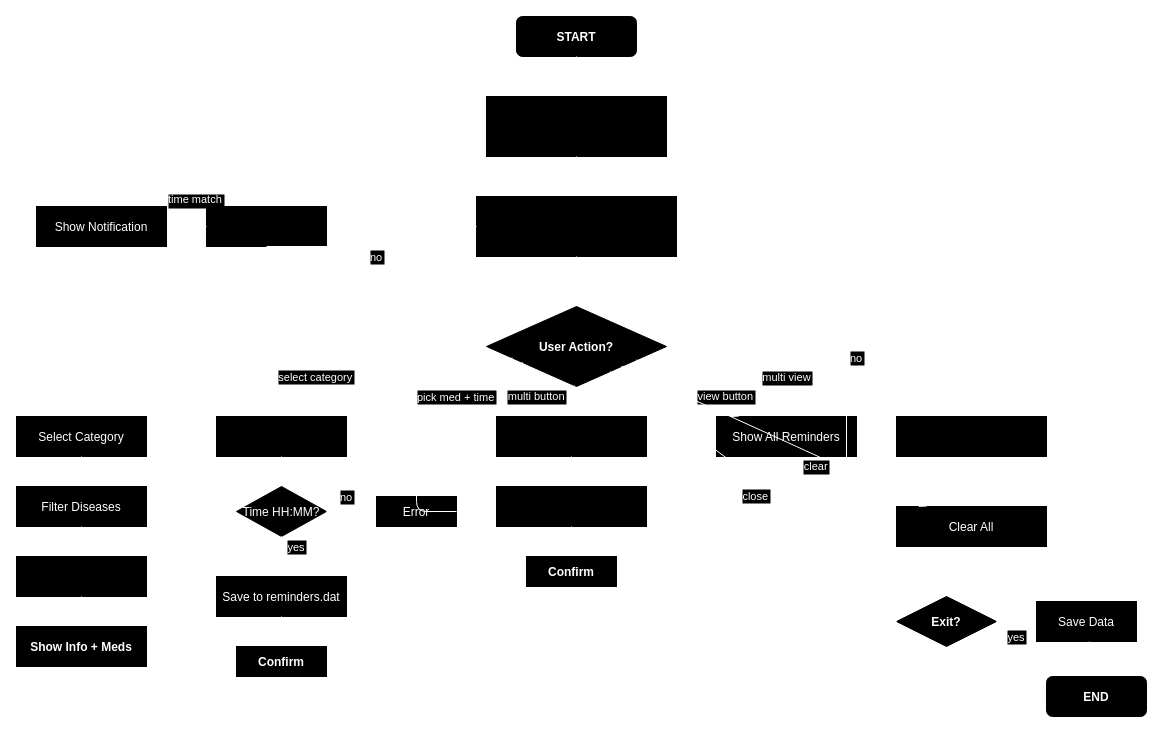
The diagram is 1163 pixels wide and 733 high, and some of its shapes have lost their labels. The box of each missing label's shape, as (x1, y1, x2, y2) in pixels:
Add Reminder: (216, 416, 346, 456)
Load Data reminders.dat multi_reminders.dat: (486, 96, 666, 156)
Main Window Categories | Diseases | Info: (476, 196, 676, 256)
Multi Reminder: (496, 416, 646, 456)
Save to multi_reminders.dat: (496, 486, 646, 526)
Show Multi Reminders: (896, 416, 1046, 456)
Timer 30 sec: (206, 206, 326, 246)
Update ListBox: (16, 556, 146, 596)
